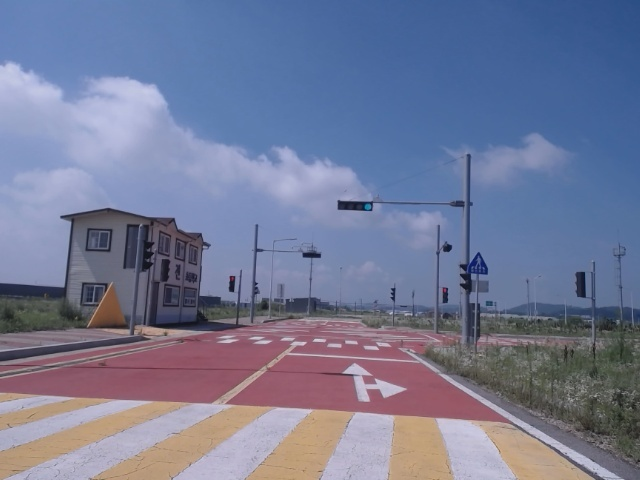straight_green_4: (338, 202, 372, 210)
